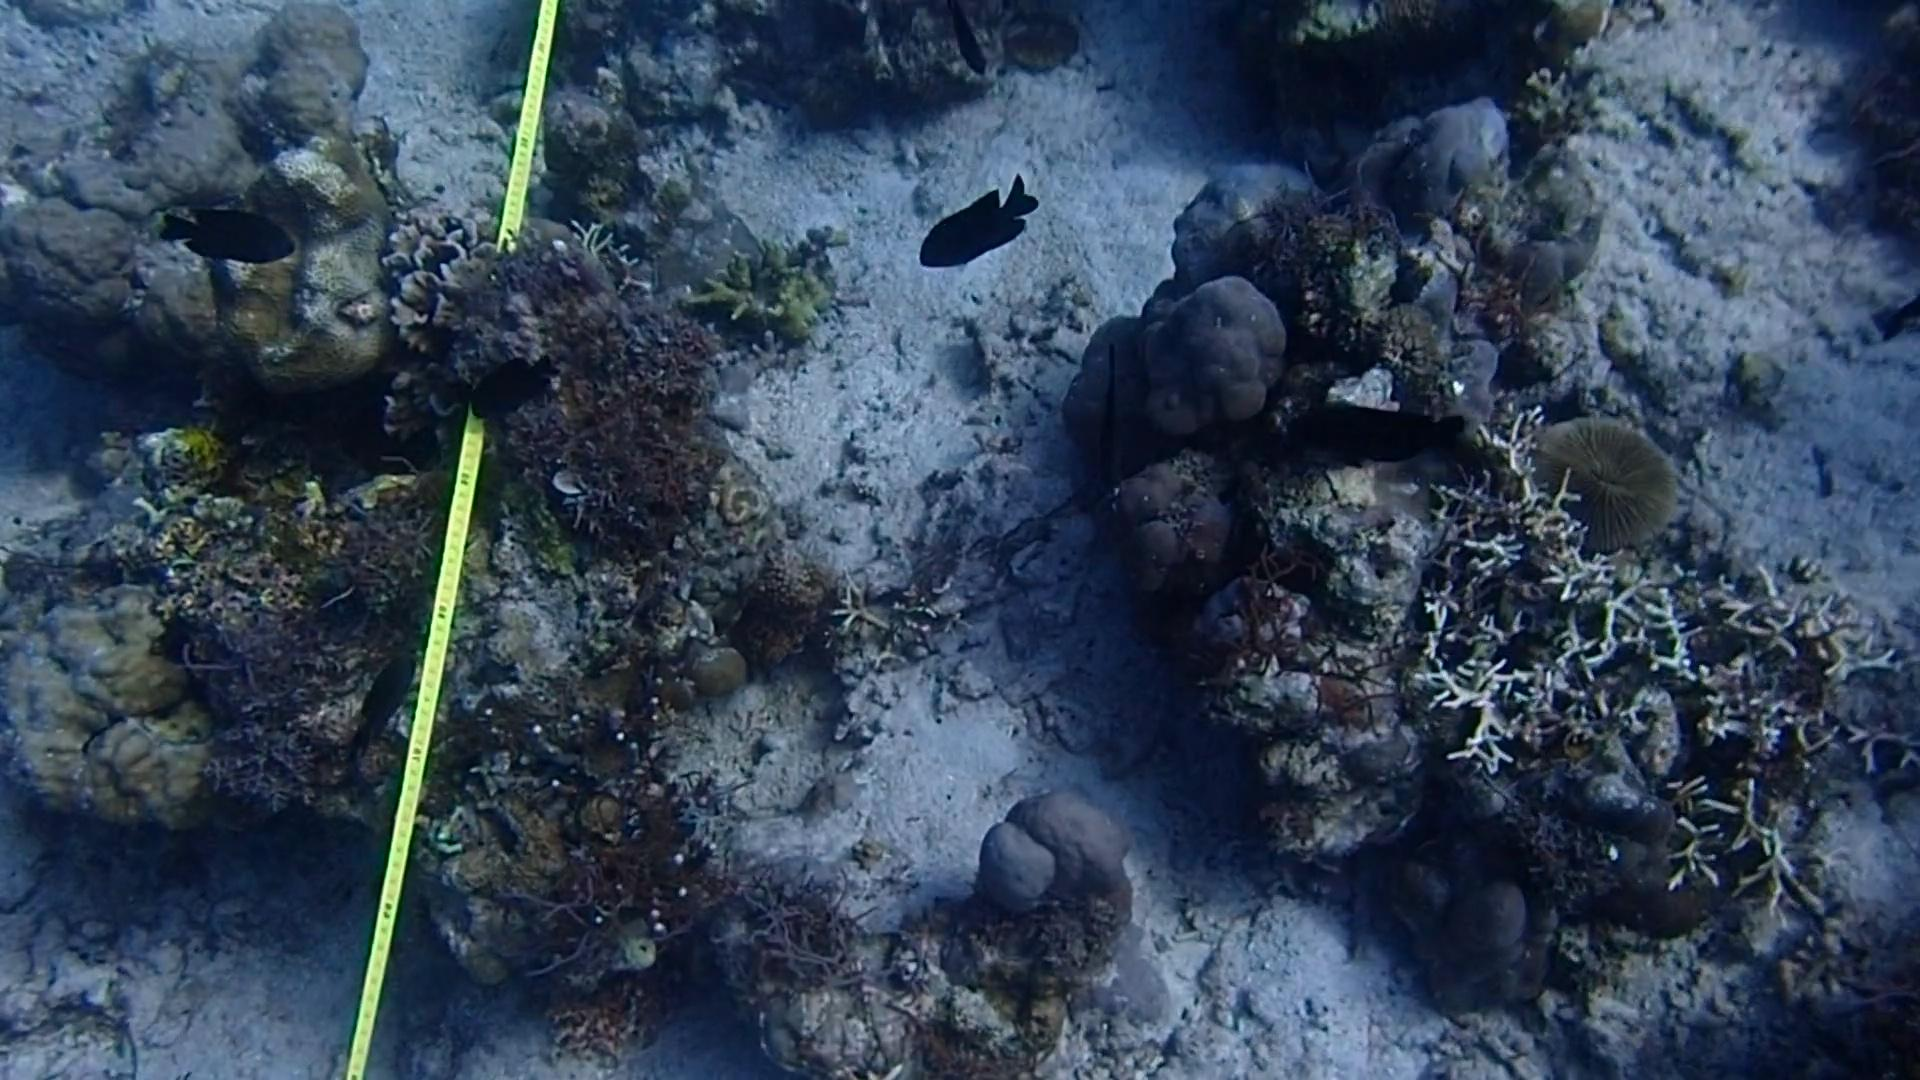Dark Fish: (906, 175, 1047, 297), (1290, 398, 1472, 476), (1071, 345, 1162, 501), (166, 189, 299, 280), (342, 655, 427, 754), (460, 353, 559, 436), (927, 5, 997, 78)
